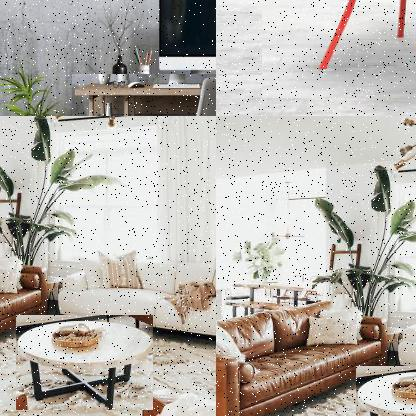table: (262, 0, 415, 100), (16, 315, 154, 411), (72, 74, 215, 115), (356, 366, 415, 415)
